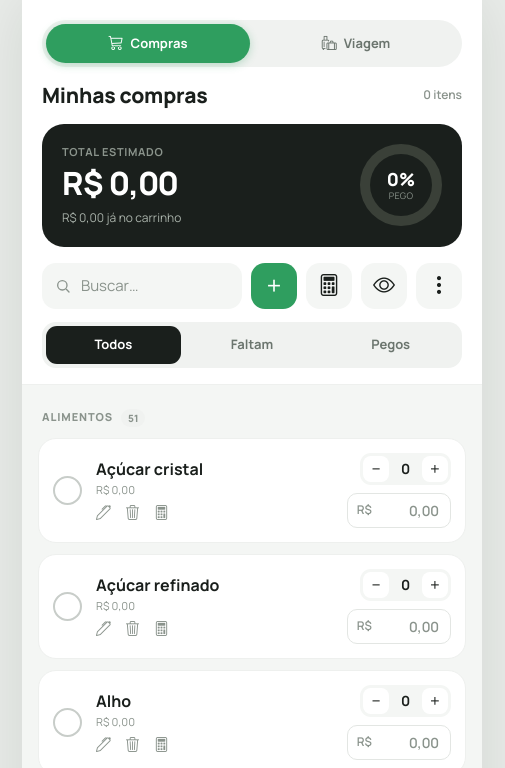
Test: alterna para viagem: pessoas, sem preço e sem calculadora
Click the button "Viagem". click: (356, 43)
box: [254,24,458,62]
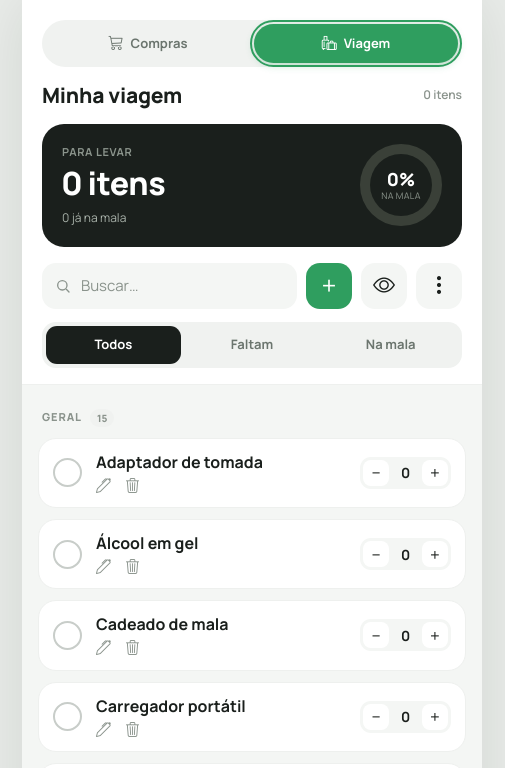
Expected: the heading "Minha viagem" is shown, [42,82,182,108]
Expected: the heading "Geral 15" is shown, [42,409,114,427]
Expected: the text "Para levar" is shown, [62,144,132,159]
